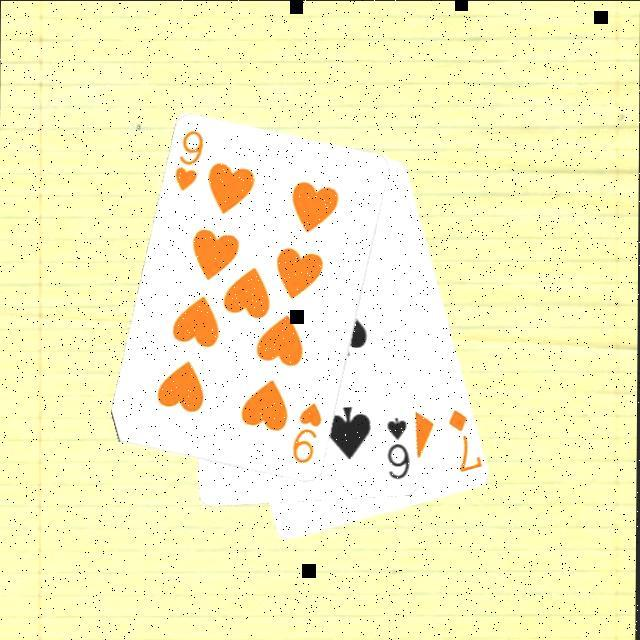6S: (386, 415, 415, 483)
7D: (447, 407, 485, 477)
9H: (291, 400, 327, 468), (172, 128, 208, 196)
